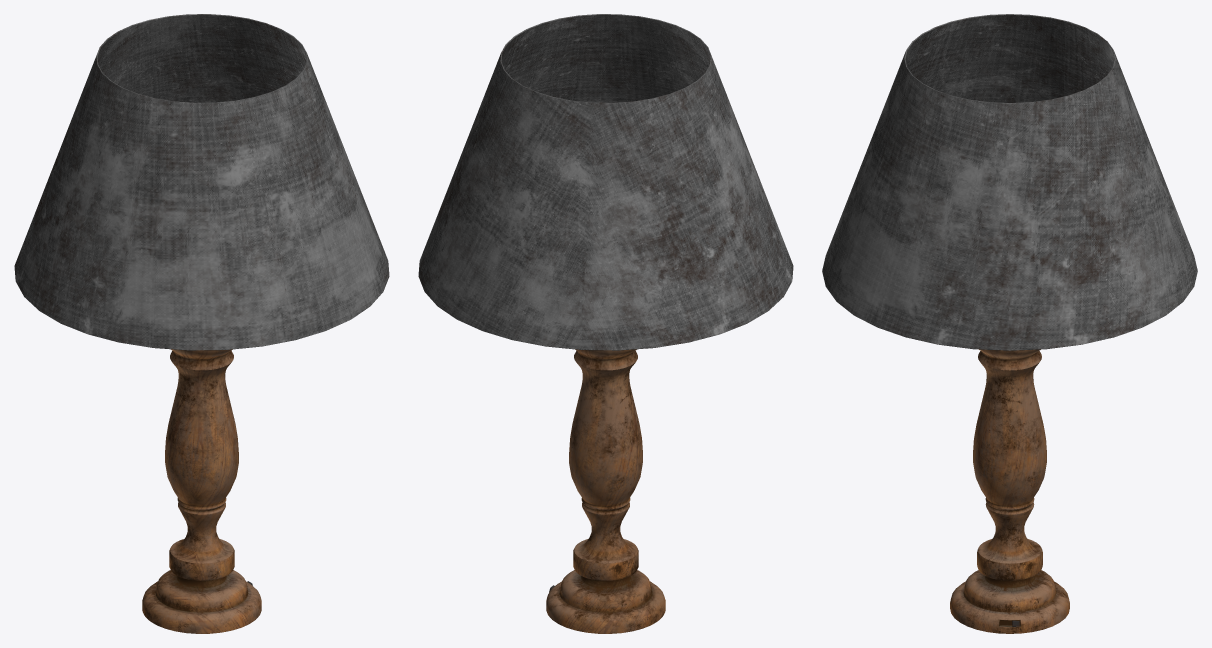
Rendered from table_lamp.glb.
3 views of the same model, side by side, from view 1: azimuth 30°, elevation 25°; view 2: azimuth 150°, elevation 25°; view 3: azimuth 270°, elevation 25° (orthographic).
Parts seen in each view (by area): view 1: Shade_low, Stand_low; view 2: Shade_low, Stand_low; view 3: Shade_low, Stand_low.
Boxes of the visible parts, x1,y1,x2,y2 form: Shade_low: (14, 14, 389, 350); Stand_low: (142, 349, 261, 633); Shade_low: (418, 14, 793, 350); Stand_low: (546, 349, 665, 633); Shade_low: (822, 14, 1197, 350); Stand_low: (950, 349, 1069, 633).
Size of the model in its own units: 0.4987 by 0.8055 by 0.4987.
Materials: 1 (1 with a texture image).
